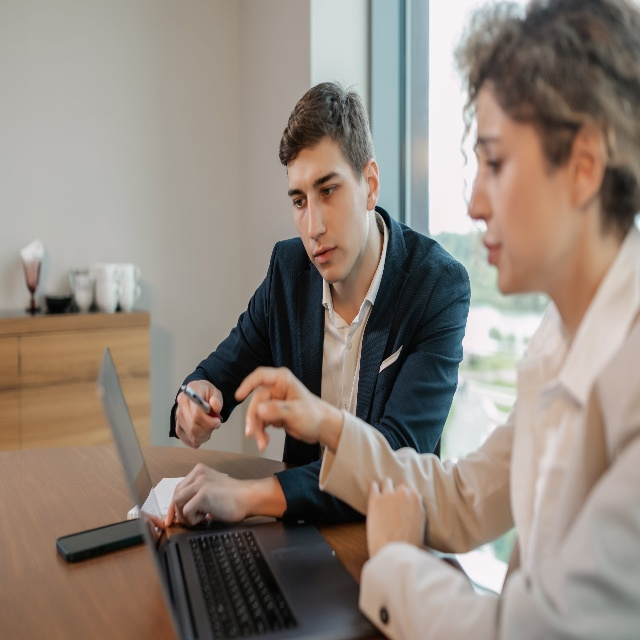Sin_guantes: (232, 361, 326, 456), (165, 462, 249, 540), (363, 472, 431, 560), (173, 381, 223, 450)
